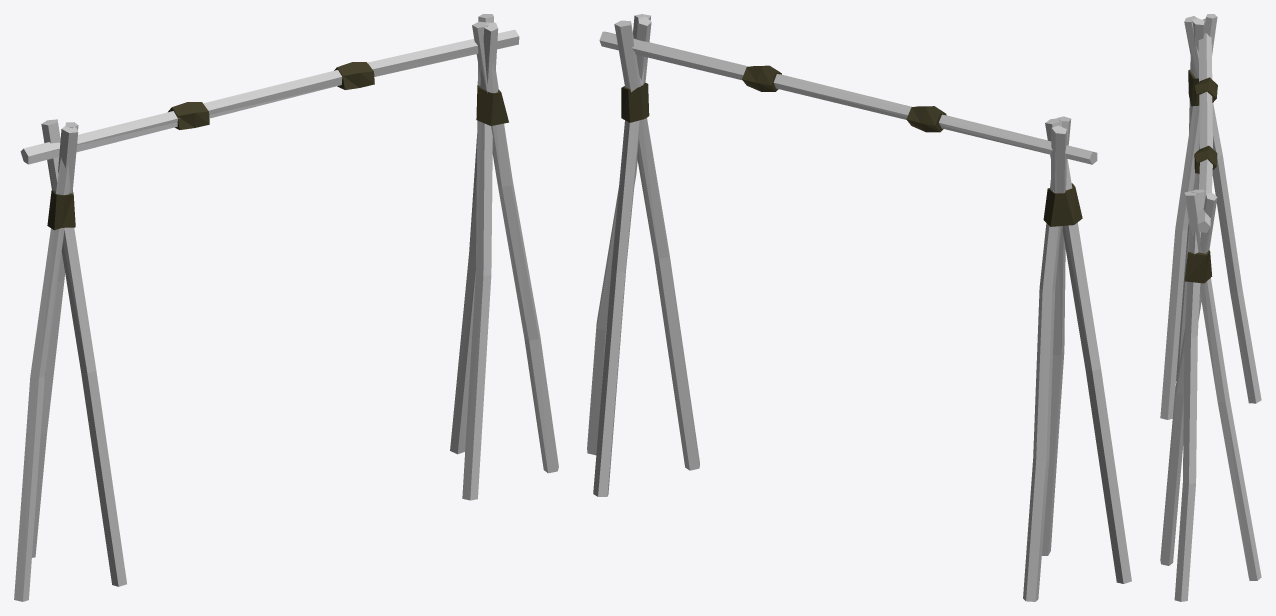
Rendered from OC_CHICKENSTICK_V02.OBJ.
3 renders of one model, left to right at view 1: azimuth 30°, elevation 25°; view 2: azimuth 150°, elevation 25°; view 3: azimuth 270°, elevation 25°, orthographic. The views are drawn at different scales.
Parts seen in each view (by area): view 1: OC_CHICKENSTICK_V02; view 2: OC_CHICKENSTICK_V02; view 3: OC_CHICKENSTICK_V02.
Part boxes in pixels (bbox=[...]): OC_CHICKENSTICK_V02: bbox=[14, 14, 558, 601]; OC_CHICKENSTICK_V02: bbox=[587, 14, 1131, 601]; OC_CHICKENSTICK_V02: bbox=[1160, 14, 1261, 601].
Bounding box in the file's own units: 3.24 × 2.58 × 0.615.
